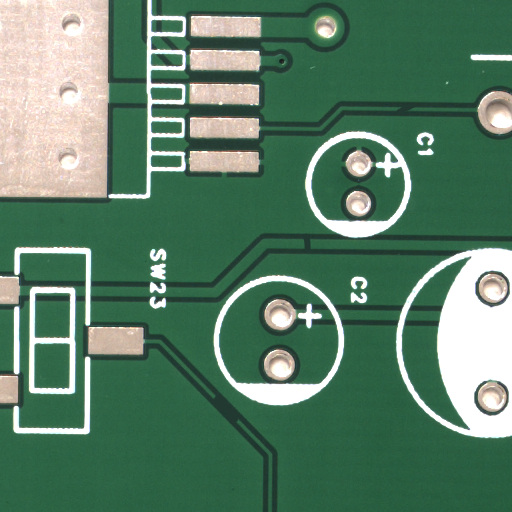Open_circuit: (226, 408, 249, 434), (406, 106, 424, 115), (307, 244, 314, 254)
